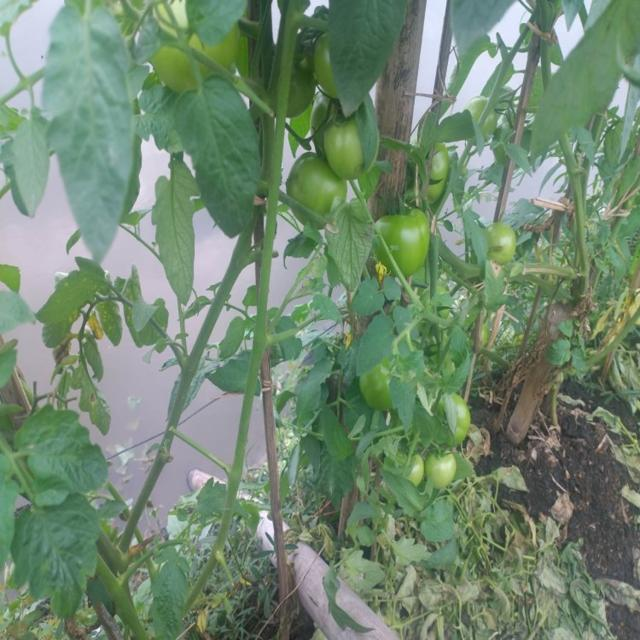tomato: (149, 6, 231, 76), (317, 103, 379, 175), (376, 212, 432, 274), (289, 162, 347, 217), (482, 220, 517, 269), (314, 44, 346, 96), (365, 364, 392, 418), (414, 151, 445, 197), (447, 394, 472, 450), (426, 454, 465, 487), (463, 101, 494, 139), (401, 445, 424, 492)
